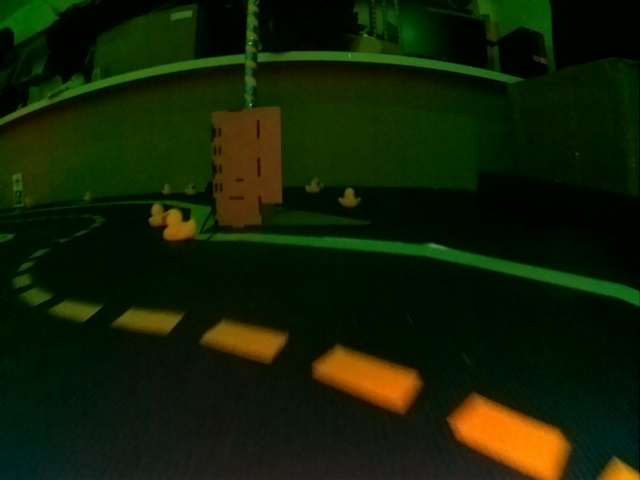Duckie: (164, 210, 196, 241), (150, 202, 166, 224), (339, 188, 359, 205), (306, 179, 320, 191), (161, 183, 171, 192), (187, 184, 196, 192), (83, 191, 90, 199)
Intersection sign: (13, 177, 21, 187)
QR code: (13, 192, 22, 206)
